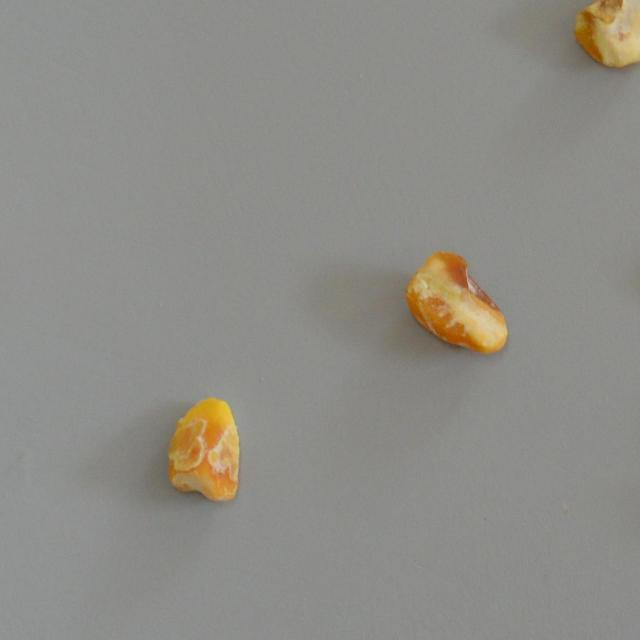dañado: (398, 244, 517, 358), (160, 385, 249, 513), (571, 0, 640, 77)
